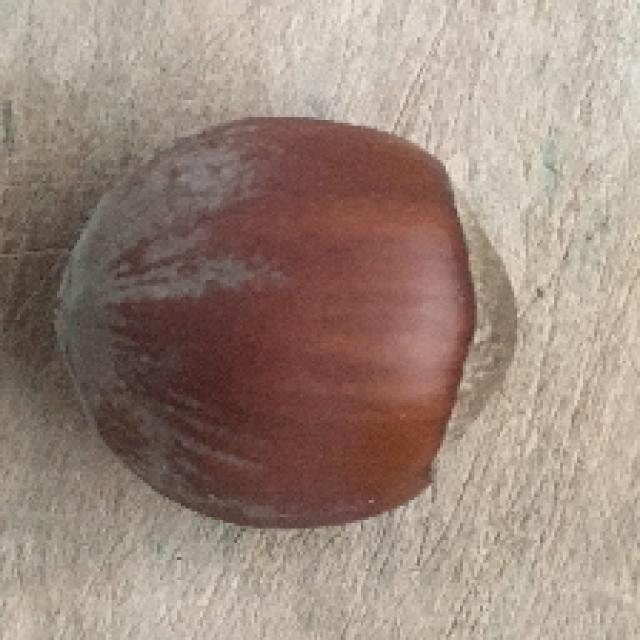qualityHazelnut: (44, 113, 520, 531)
